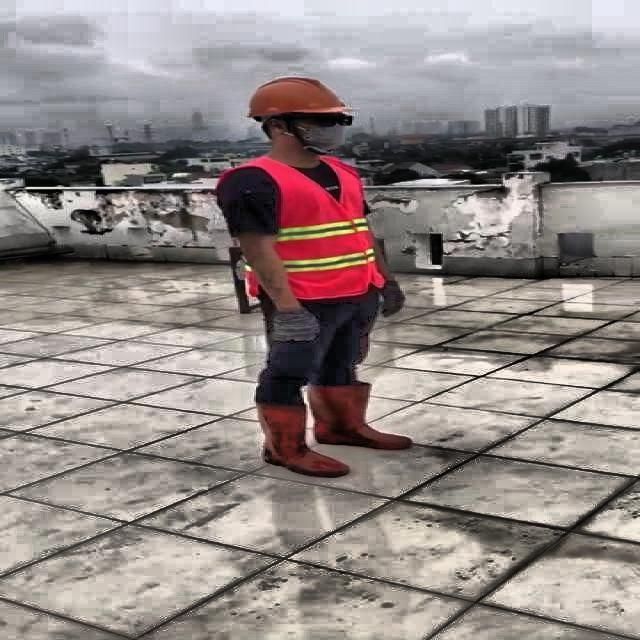safety_helmet: (240, 76, 350, 117)
safety_jacket: (217, 160, 384, 300)
